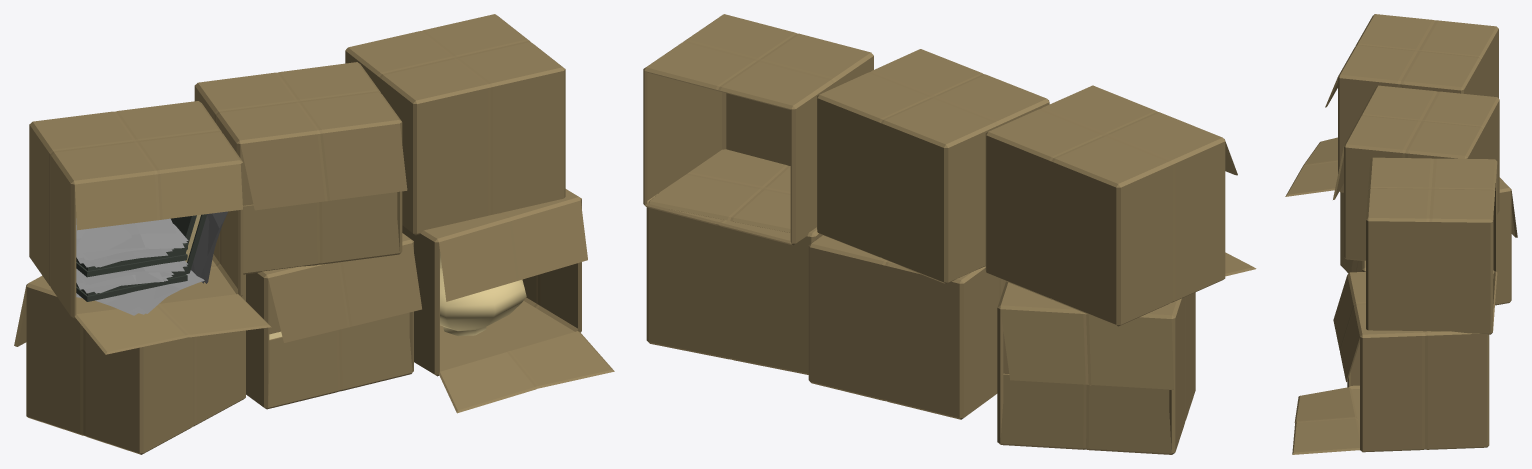
File: Boxes.fbx
3 renders of one model, left to right at view 1: azimuth 30°, elevation 25°; view 2: azimuth 150°, elevation 25°; view 3: azimuth 270°, elevation 25°, orthographic. The views are drawn at different scales.
Visible parts, largest first — view 1: yashiki_long; view 2: yashiki_long; view 3: yashiki_long.
Boxes of the visible parts, x1,y1,x2,y2 form: yashiki_long: (14,14,614,454); yashiki_long: (643,14,1256,454); yashiki_long: (1285,14,1517,454).
Bounding box in the file's own units: 323 × 172 × 150.
